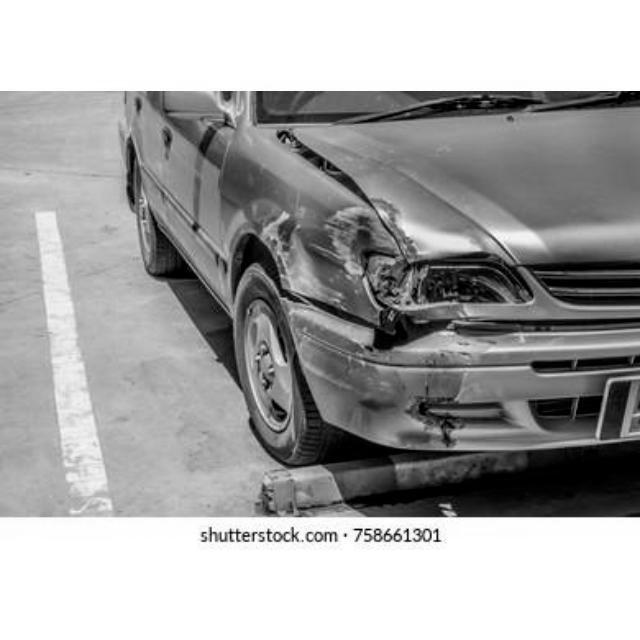Headlight-damage: (353, 248, 533, 316)
bonnet-dent: (294, 107, 638, 266)
fender-dent: (224, 128, 374, 320)
front-bumper-dent: (284, 320, 638, 454)
